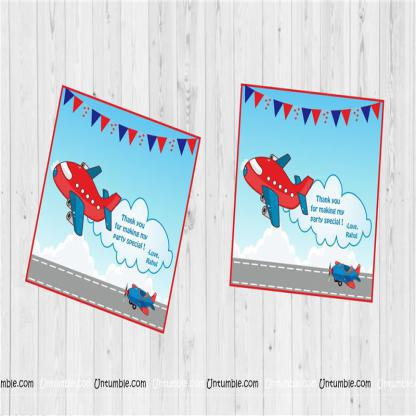CIV_Plane: (240, 150, 314, 230), (48, 154, 120, 236)
